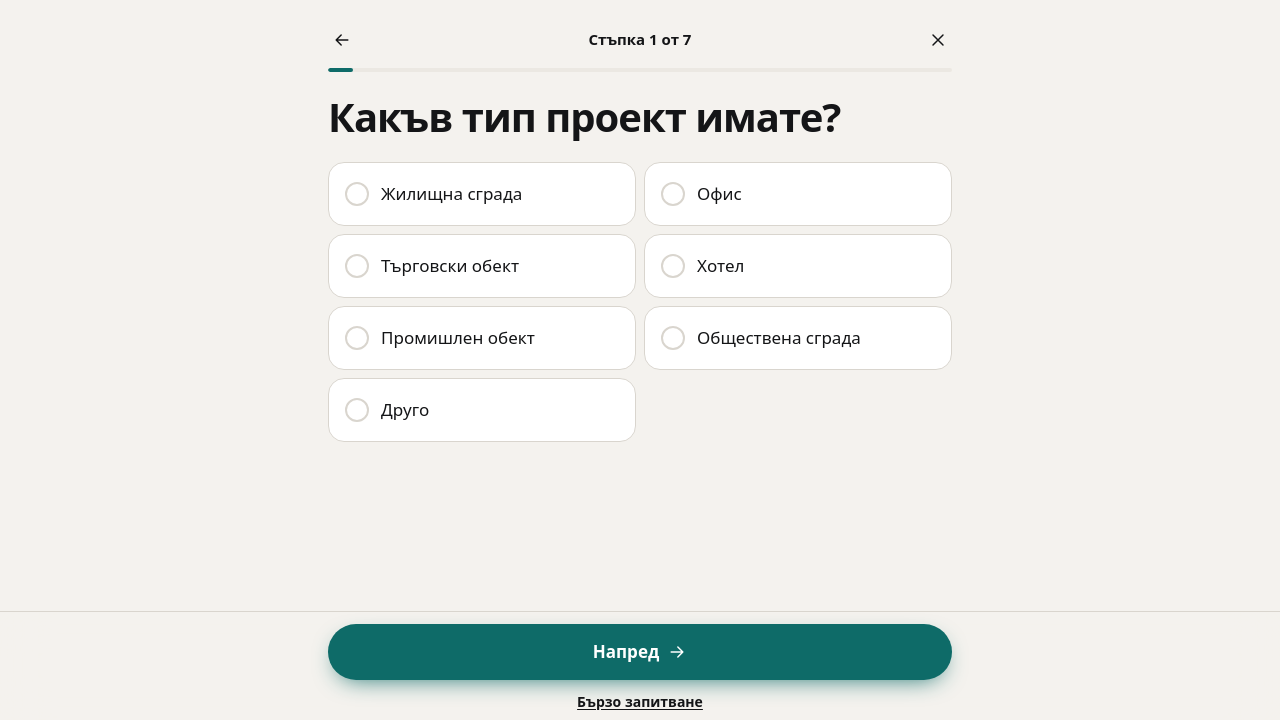
Scenario: quote wizard › shows progress and blocks the step with a specific error
Expected: the text "Стъпка 1 от 7" is shown, [588, 28, 691, 52]
Click the button with test id "next-step": (640, 652) [328, 624, 952, 680]
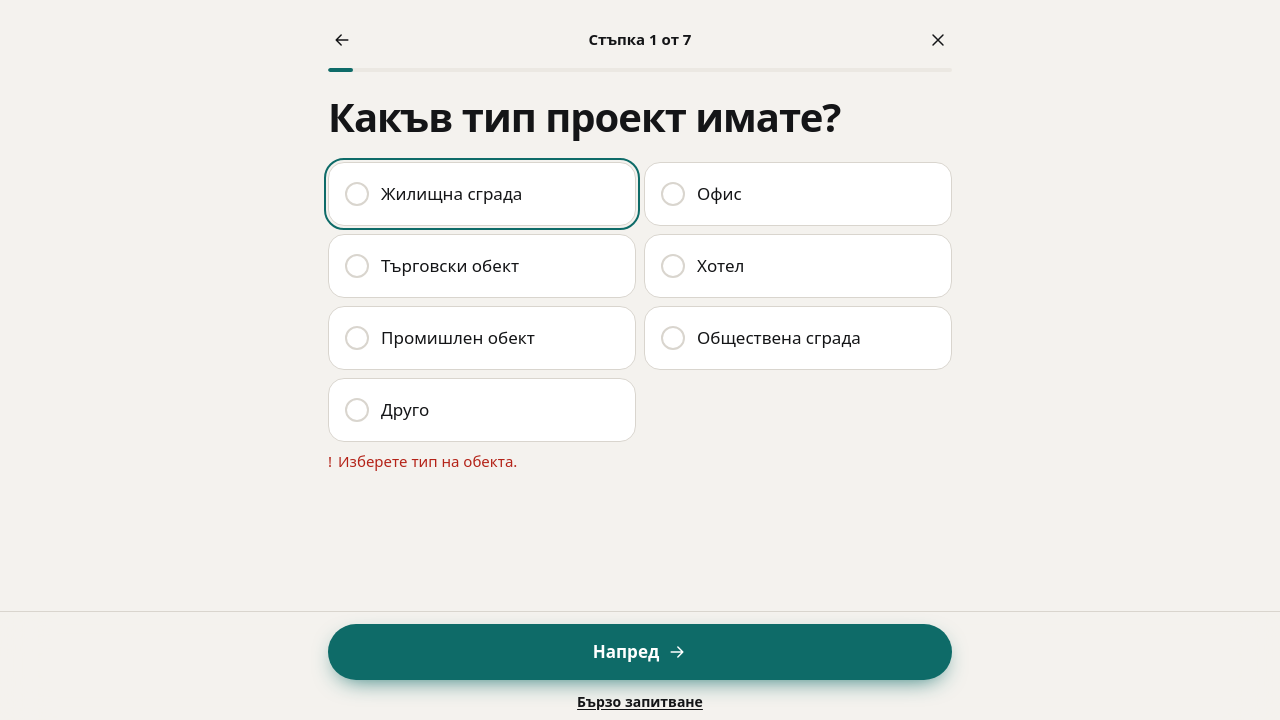
Expected: the text "Стъпка 1 от 7" is shown, [588, 28, 691, 52]
Expected: the message shows "Изберете тип на обекта.", [338, 451, 517, 471]
